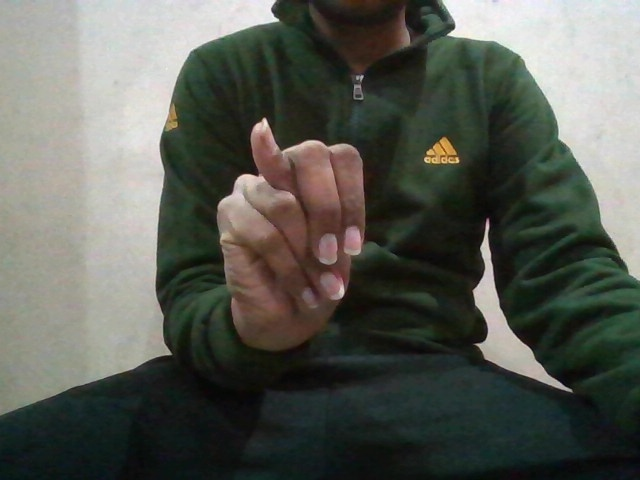N: (206, 112, 368, 349)
